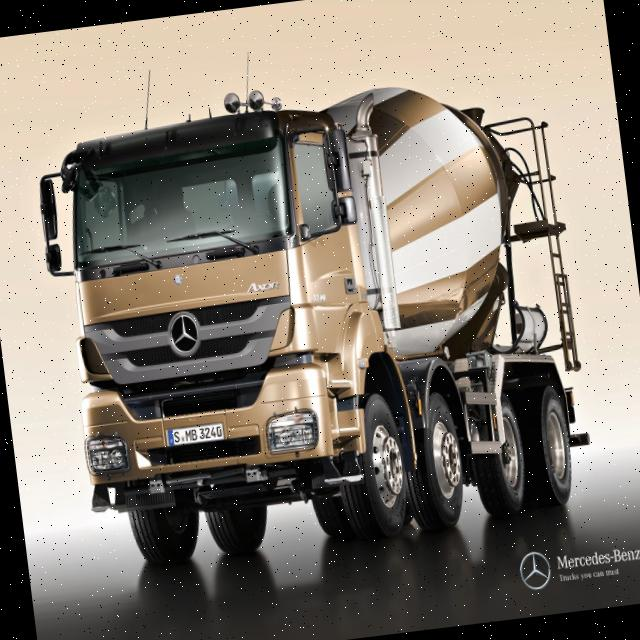Mixer Truck: (31, 67, 599, 574)
